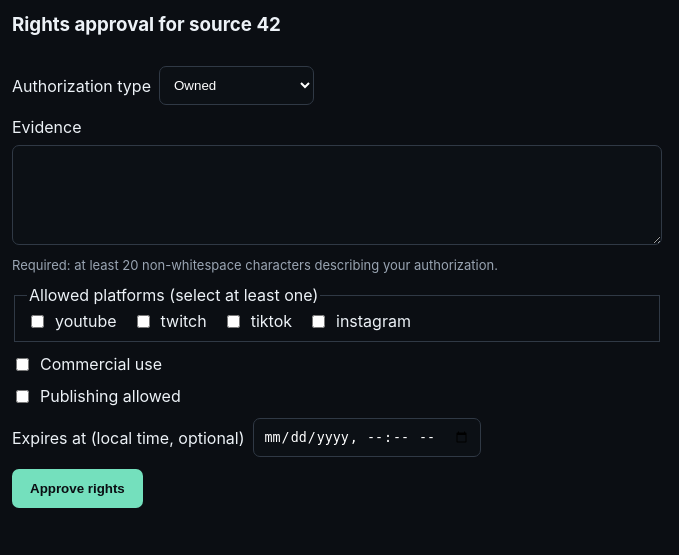
RightsForm › blocks insufficient non-whitespace evidence:
Click the checkbox labelled "youtube" at (38, 321), box [31,314,44,328]
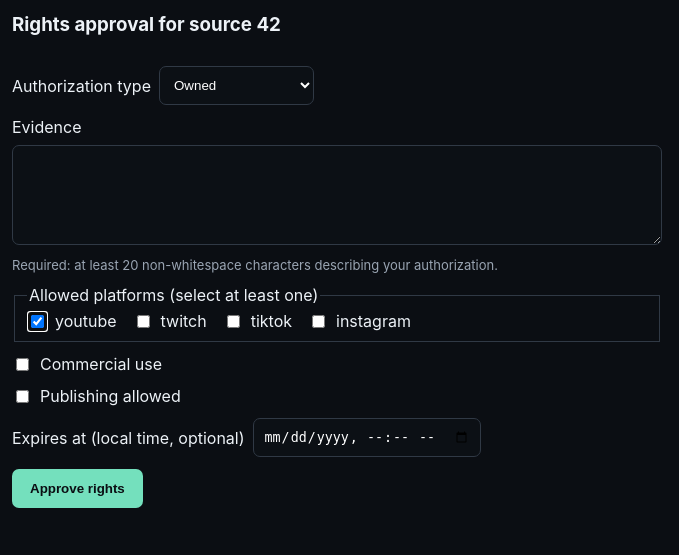
Click the button "Approve rights" at (77, 489), box [12,469,143,508]
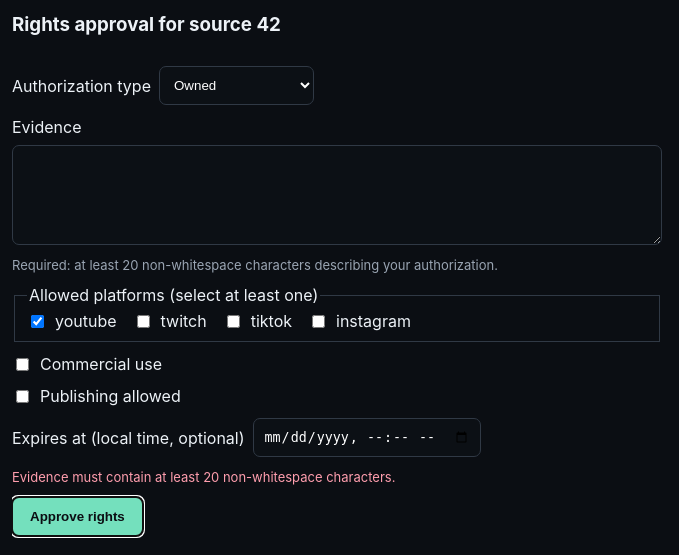
Check: the message shows "20 non-whitespace", box [12,469,395,485]
